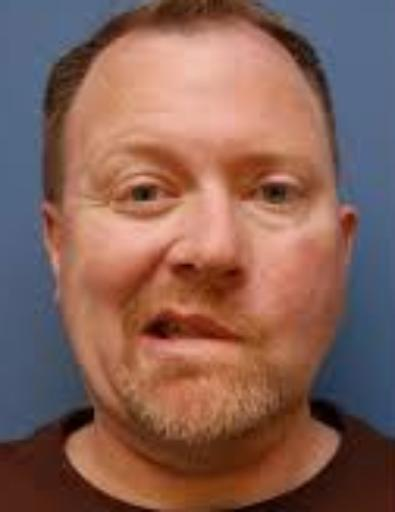left_eye: (242, 176, 311, 211)
left_lip_corner: (233, 330, 253, 352)
right_eye: (116, 184, 180, 211)
right_lip_corner: (133, 319, 157, 347)
